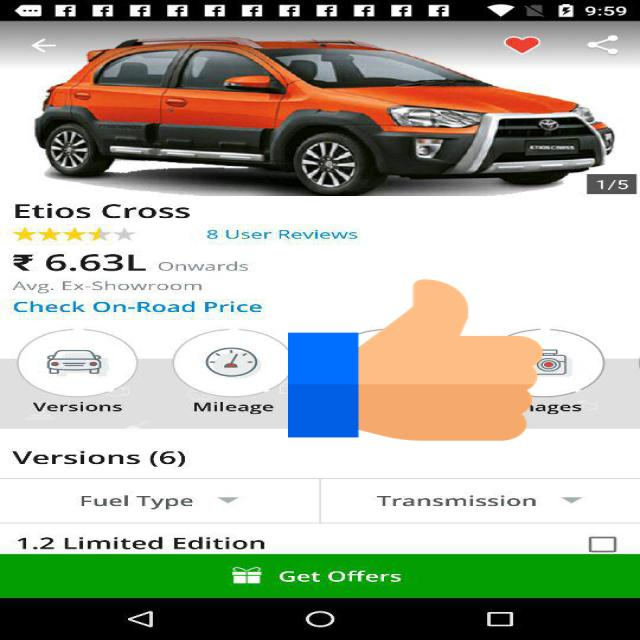privacy zuckering: (288, 275, 543, 445)
